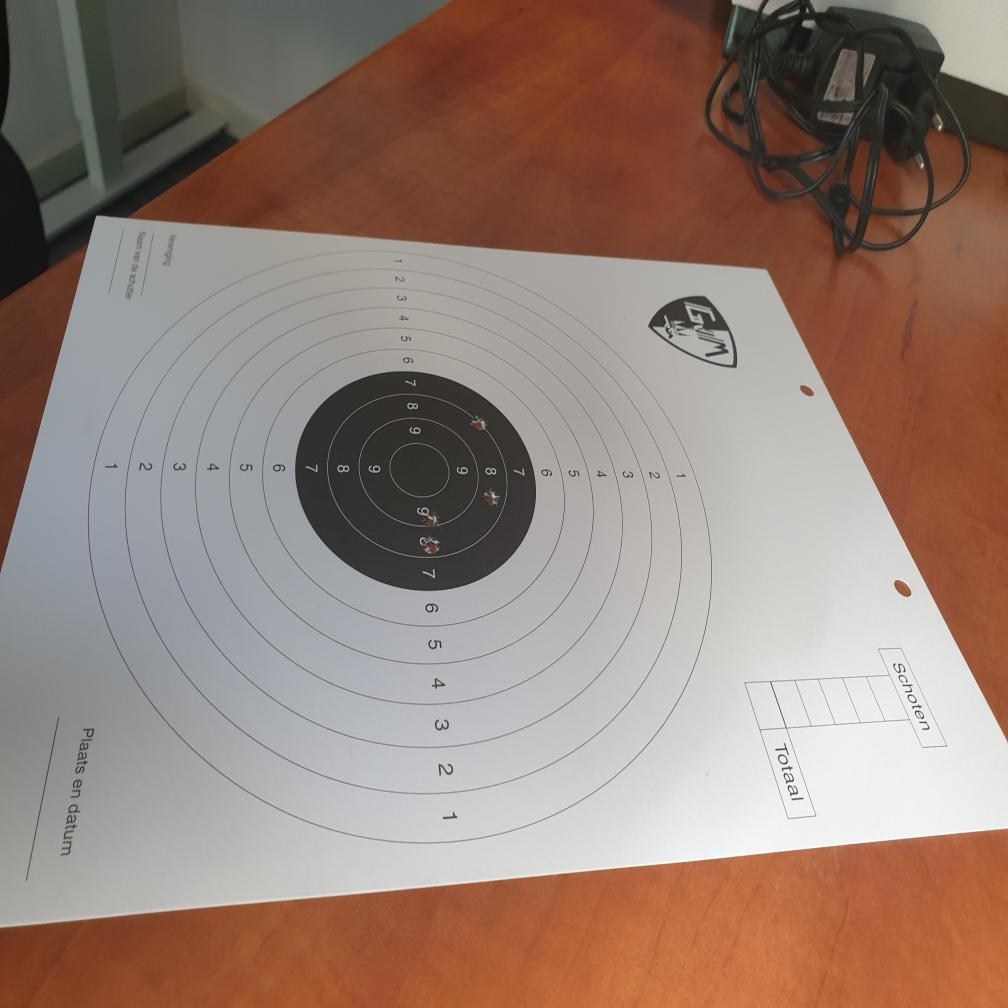8: (469, 412, 489, 432), (421, 535, 440, 556), (481, 487, 500, 508)
9: (421, 511, 443, 532)
Target: (81, 241, 715, 849)
black_contour: (294, 369, 537, 591)
